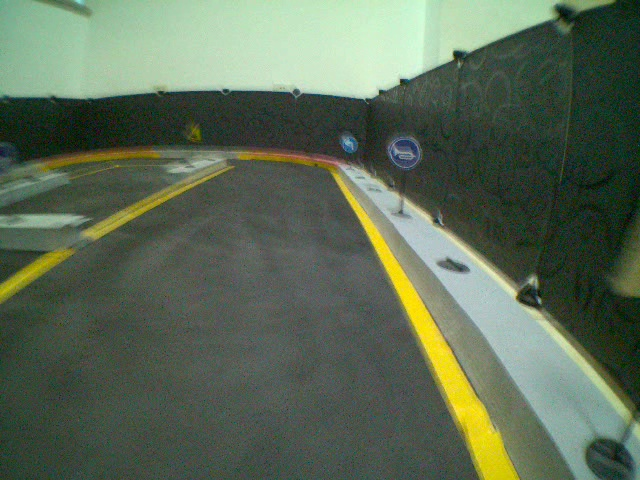horn: (385, 134, 424, 171)
turn: (337, 134, 359, 153)
